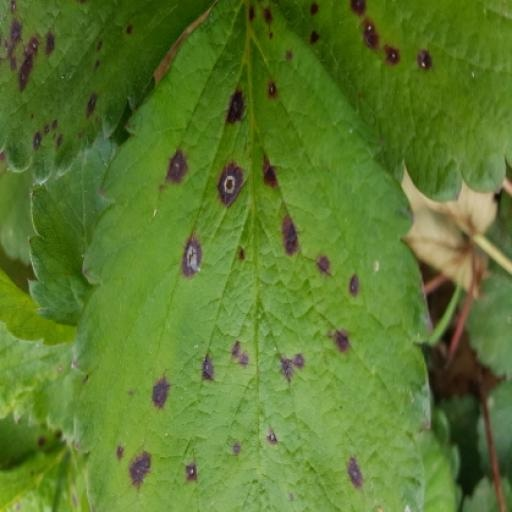Leaf Spot: (78, 0, 440, 511), (0, 309, 235, 511), (299, 325, 511, 511), (419, 0, 511, 66), (445, 42, 511, 97)
